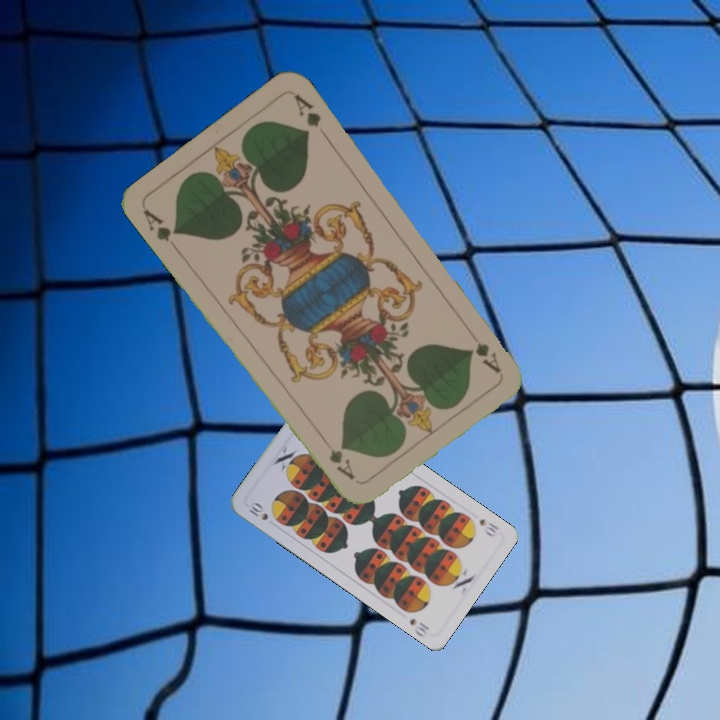GA: (139, 204, 182, 244), (471, 338, 504, 376)
S10: (245, 498, 271, 523), (475, 515, 501, 540)
